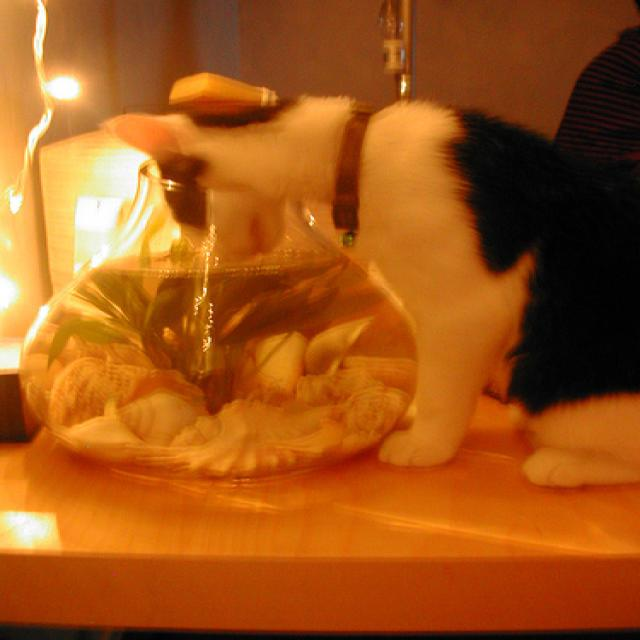cat: (97, 83, 639, 491)
